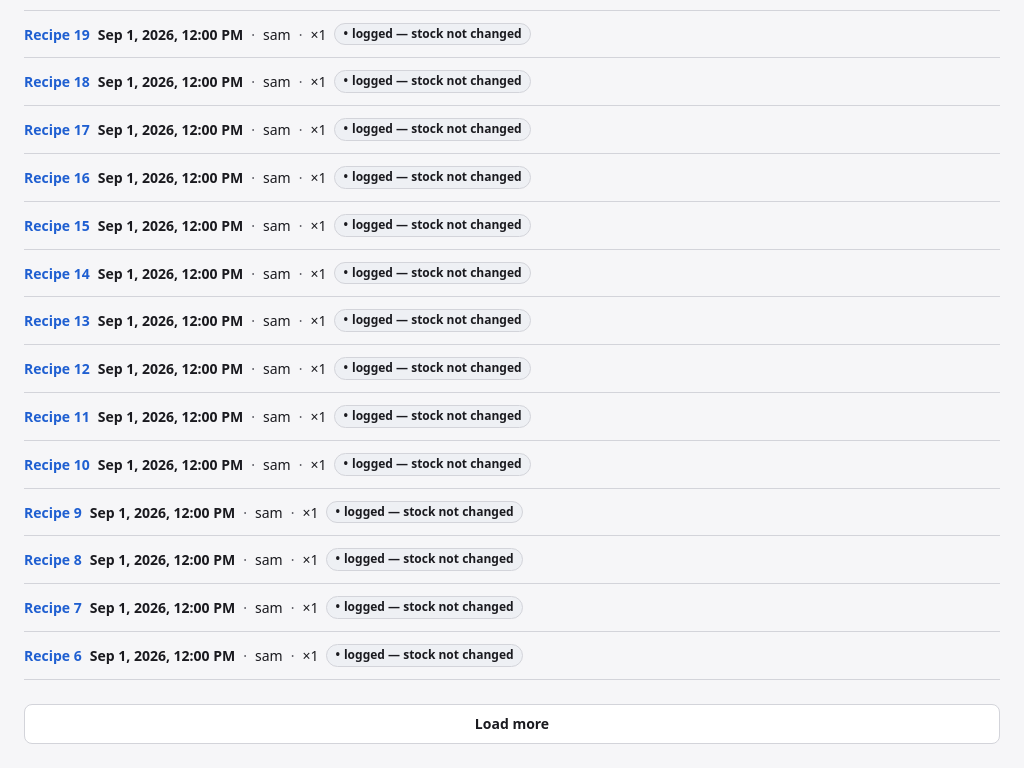
History — global feed › 'load more' advances the offset and appends the next page
The image size is (1024, 768).
(page scrolled)
Click the button "Load more" at (512, 724), box [24,704,1000,744]
(page scrolled)
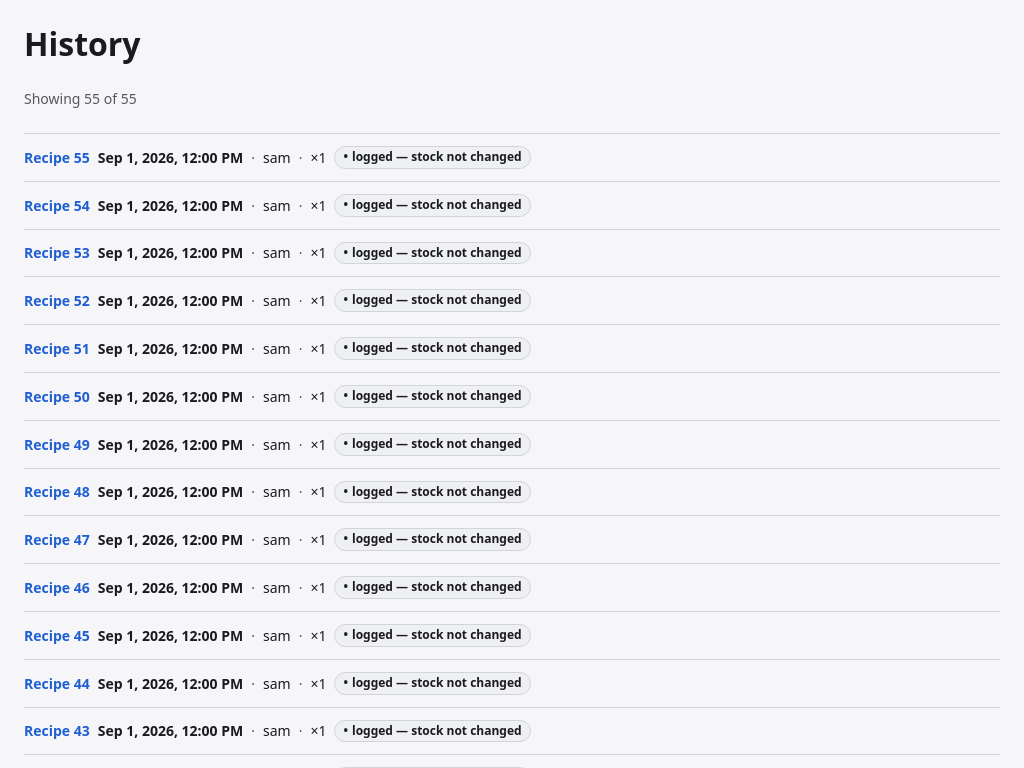
Result: the text "Showing 55 of 55" is shown at [24,89,137,108]
Result: the number of list items is 55
Result: the button "Load more" is gone
